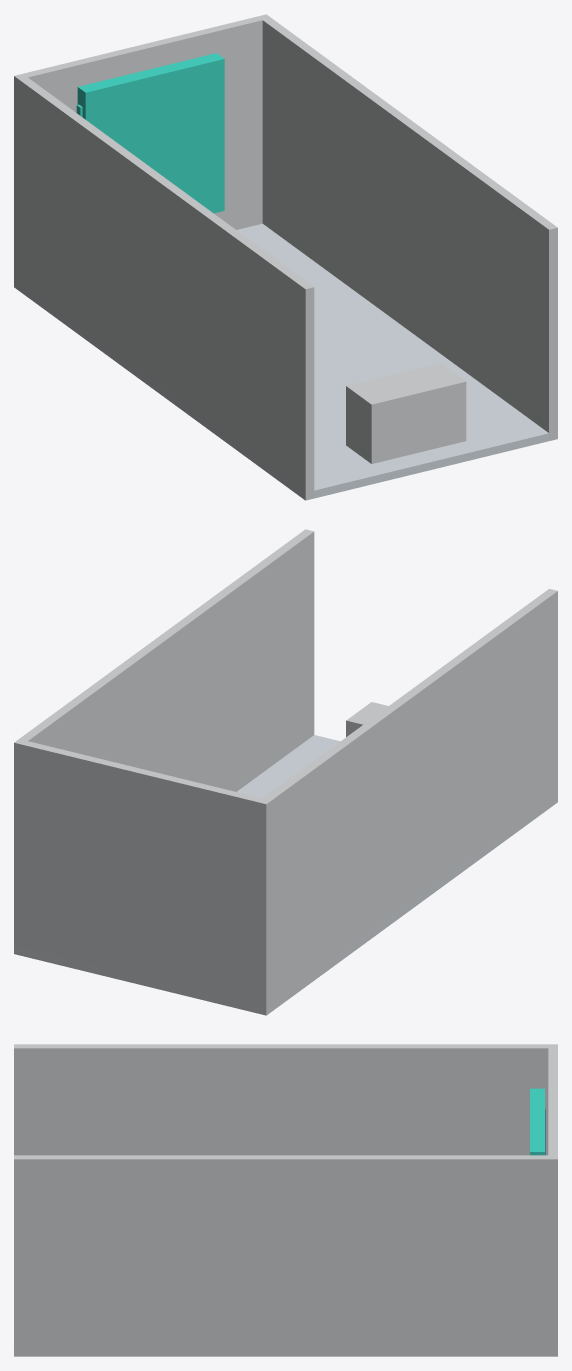
3 views of the same model, one above another, from view 1: azimuth 30°, elevation 25°; view 2: azimuth 150°, elevation 25°; view 3: azimuth 270°, elevation 25° (orthographic). The views are drawn at different scales.
Parts seen in each view (by area): view 1: Exhibition Booth Concept; view 2: Exhibition Booth Concept; view 3: Exhibition Booth Concept.
Boxes of the visible parts, x1,y1,x2,y2 form: Exhibition Booth Concept: [14, 14, 557, 500]; Exhibition Booth Concept: [14, 529, 557, 1015]; Exhibition Booth Concept: [14, 1044, 557, 1356].
Bounding box in the file's own units: 4 × 3.2 × 8.
